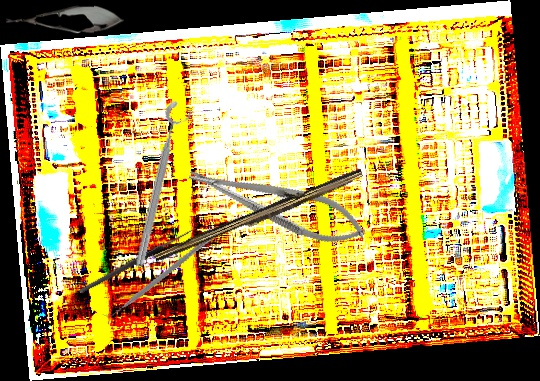Chopper: (99, 202, 220, 343)
Fixation Ring: (130, 99, 195, 270)
Hook Surgical: (75, 219, 199, 295)
Micro Scissor: (5, 3, 125, 37)
Needle Holder: (182, 152, 372, 255)
Scalpel Handle: (152, 164, 366, 269)
